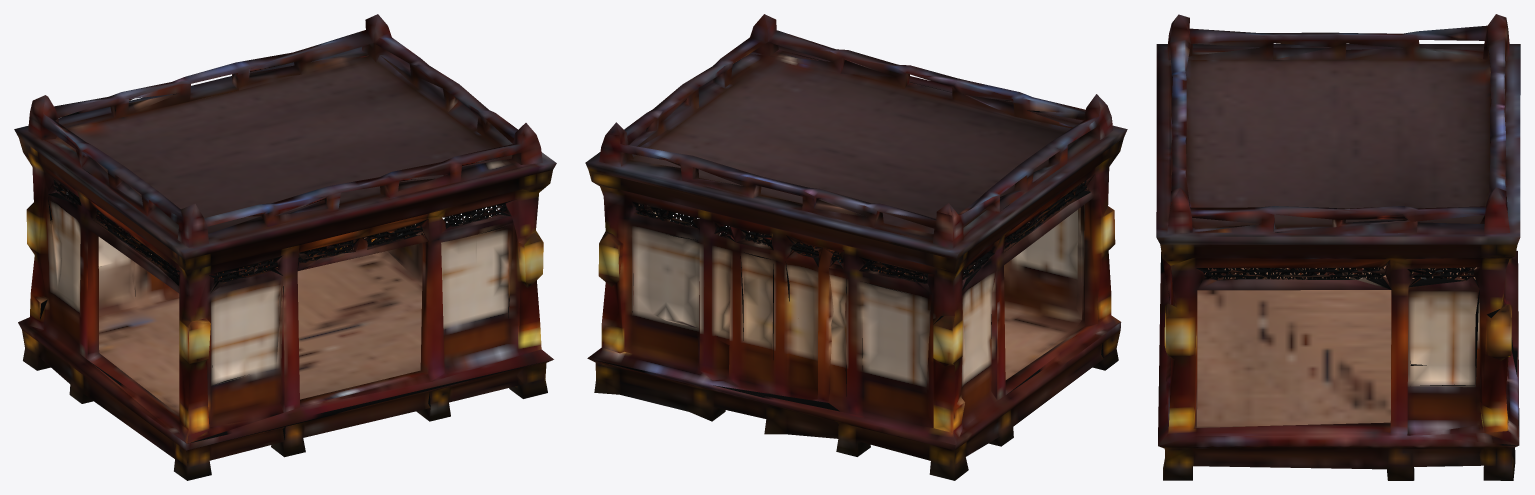
Rendered from CorrectedRoom_LOD2.fbx.
3 views of the same model, side by side, from view 1: azimuth 30°, elevation 25°; view 2: azimuth 150°, elevation 25°; view 3: azimuth 270°, elevation 25° (orthographic). The views are drawn at different scales.
Visible parts, largest first — view 1: node_0.001; view 2: node_0.001; view 3: node_0.001.
Boxes of the visible parts, x1,y1,x2,y2 form: node_0.001: (14,14,556,480); node_0.001: (585,14,1127,480); node_0.001: (1156,14,1520,480).
Size of the model in its own units: 85.1 by 58.7 by 67.54.
Materials: 1 (1 with a texture image).
